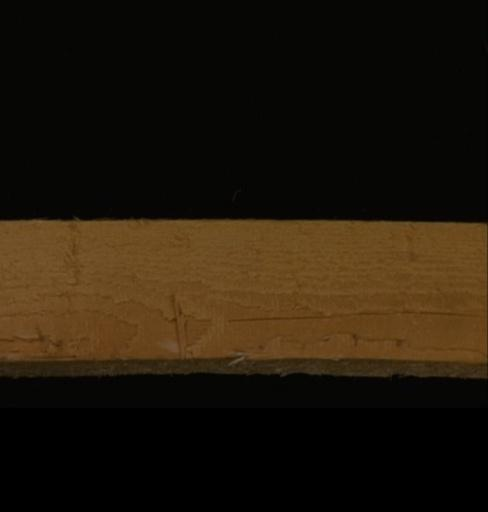split: (0, 357, 486, 377)
